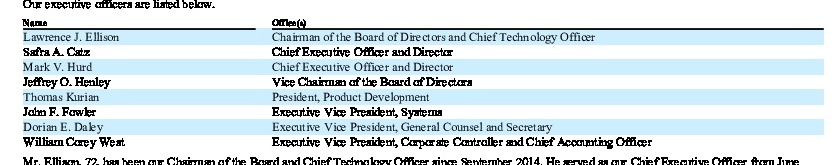table: (0, 0, 839, 165)
